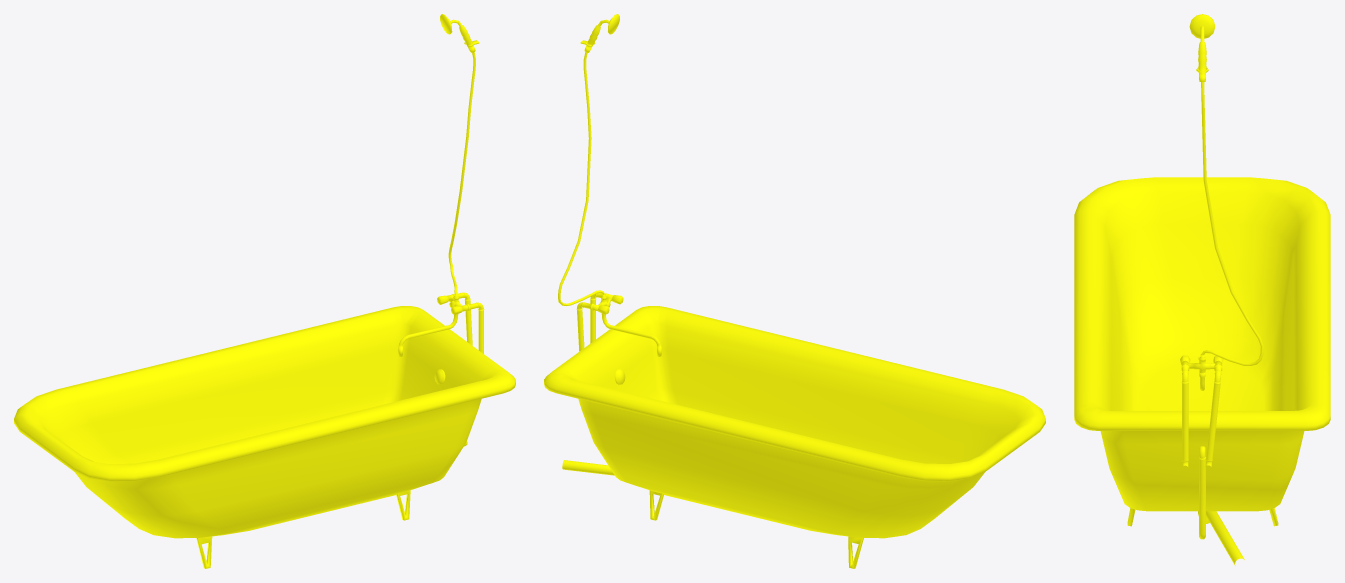
File: SM_Bathtub01.glb
3 renders of one model, left to right at view 1: azimuth 30°, elevation 25°; view 2: azimuth 150°, elevation 25°; view 3: azimuth 270°, elevation 25°, orthographic. The views are drawn at different scales.
Parts seen in each view (by area): view 1: SM_Bathtub01_LOD0; view 2: SM_Bathtub01_LOD0; view 3: SM_Bathtub01_LOD0.
Part boxes in pixels (bbox=[...]): SM_Bathtub01_LOD0: bbox=[14, 14, 515, 568]; SM_Bathtub01_LOD0: bbox=[544, 14, 1045, 568]; SM_Bathtub01_LOD0: bbox=[1074, 14, 1330, 565].
Bounding box in the file's own units: 1.71 × 1.76 × 0.7415.
1 material, 1 textured.
